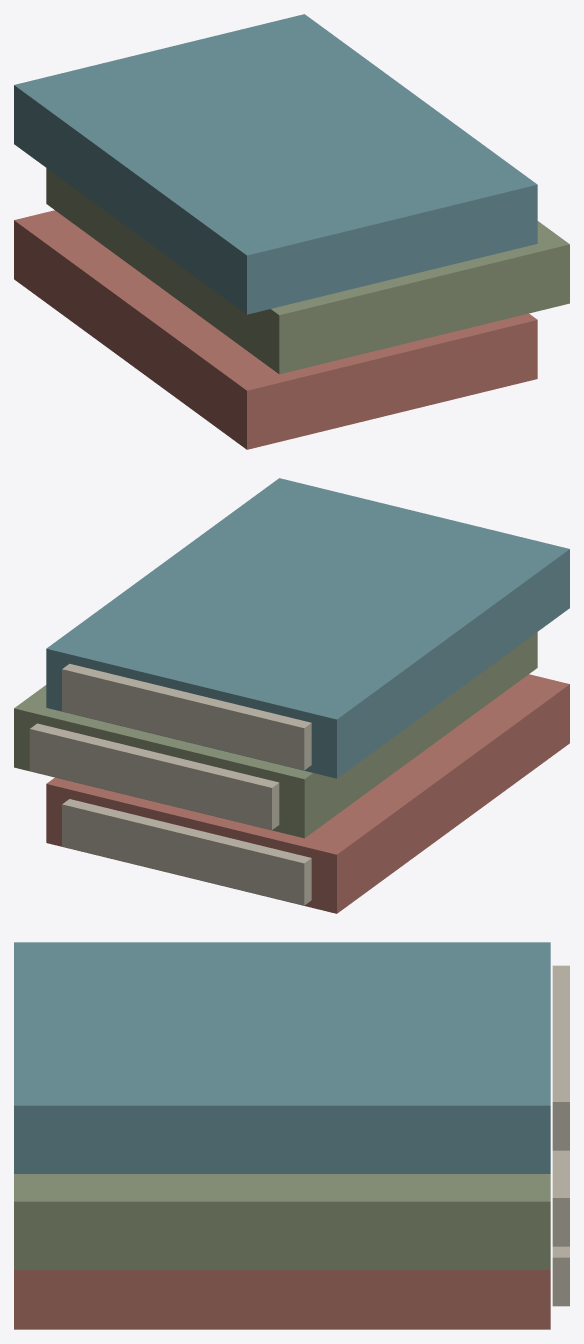
The model's file is books_stack.glb.
The picture shows the model from 3 angles, top to bottom: view 1: azimuth 30°, elevation 25°; view 2: azimuth 150°, elevation 25°; view 3: azimuth 270°, elevation 25°; orthographic projection. The views are drawn at different scales.
Visible parts, largest first — view 1: body; view 2: body; view 3: body.
Boxes of the visible parts, left/top/right/bottom form: body: left=14, top=14, right=569, bottom=449; body: left=14, top=478, right=569, bottom=913; body: left=14, top=942, right=569, bottom=1329.
Size of the model in its own units: 0.2 by 0.115 by 0.259.
